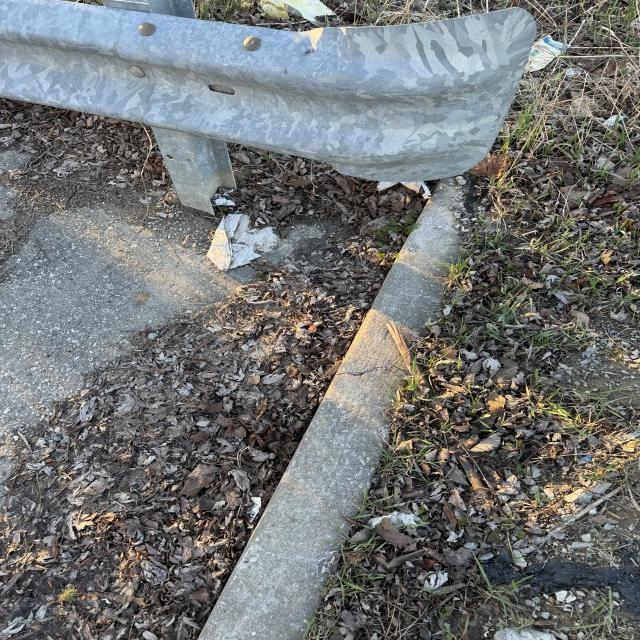Guard rail: (0, 8, 507, 182)
